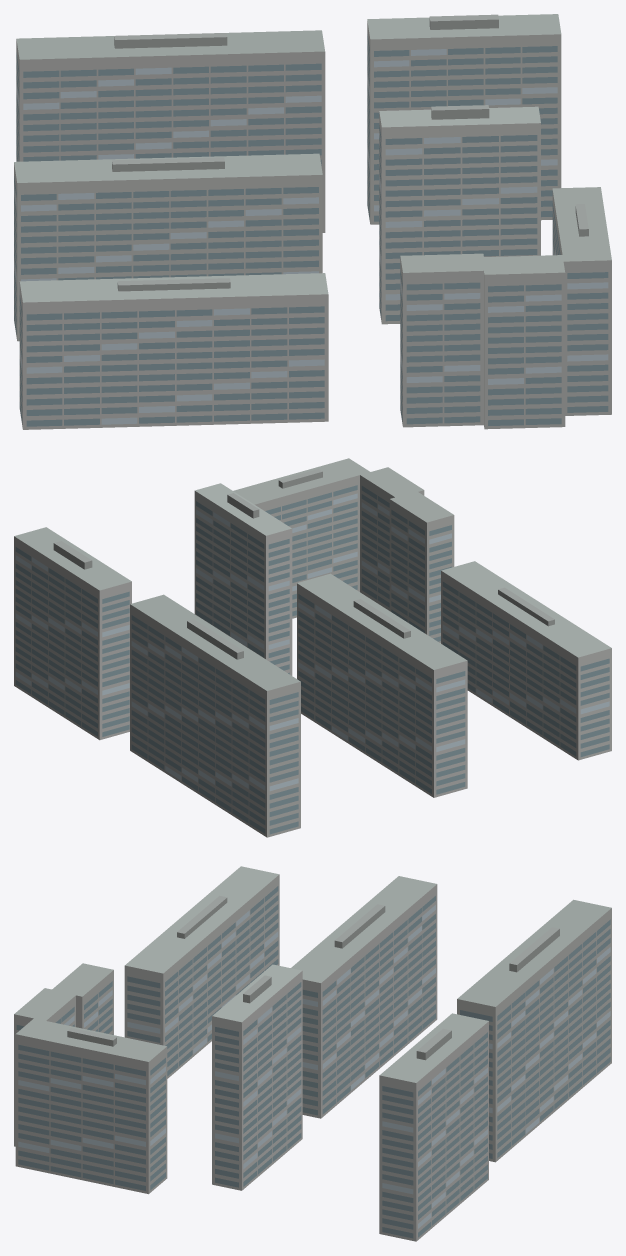
Rendered from apt-a15004503.glb.
3 renders of one model, top to bottom at view 1: azimuth 30°, elevation 25°; view 2: azimuth 150°, elevation 25°; view 3: azimuth 270°, elevation 25°, orthographic. The views are drawn at different scales.
Parts seen in each view (by area): view 1: apt-a15004503; view 2: apt-a15004503; view 3: apt-a15004503.
Part boxes in pixels (x1,y1,x2,y2): apt-a15004503: (14, 14, 611, 429); apt-a15004503: (14, 458, 611, 837); apt-a15004503: (14, 866, 611, 1241).
Bounding box in the file's own units: 165 × 51 × 157.
